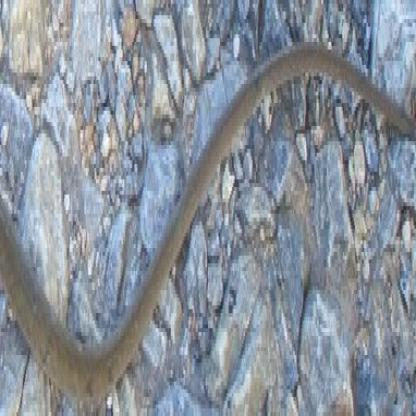snakes: (0, 42, 416, 403)
